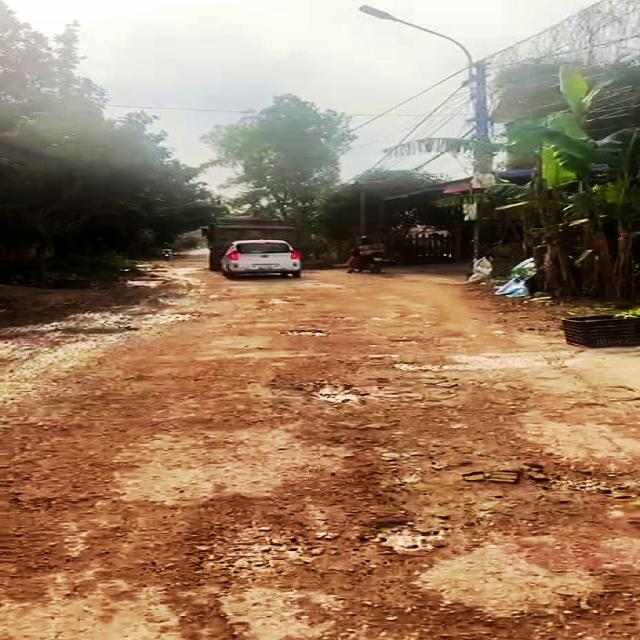pothole: (179, 513, 334, 583), (345, 517, 459, 561), (301, 379, 371, 408), (282, 327, 330, 339)
